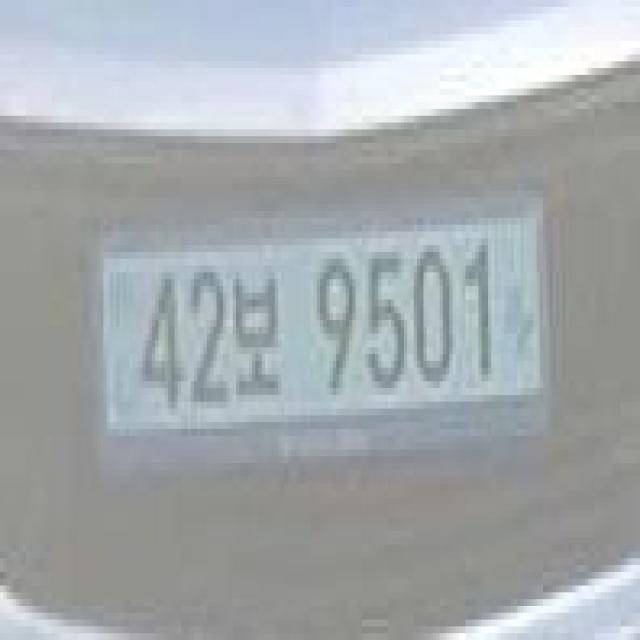EV_plate: (90, 196, 554, 482)
